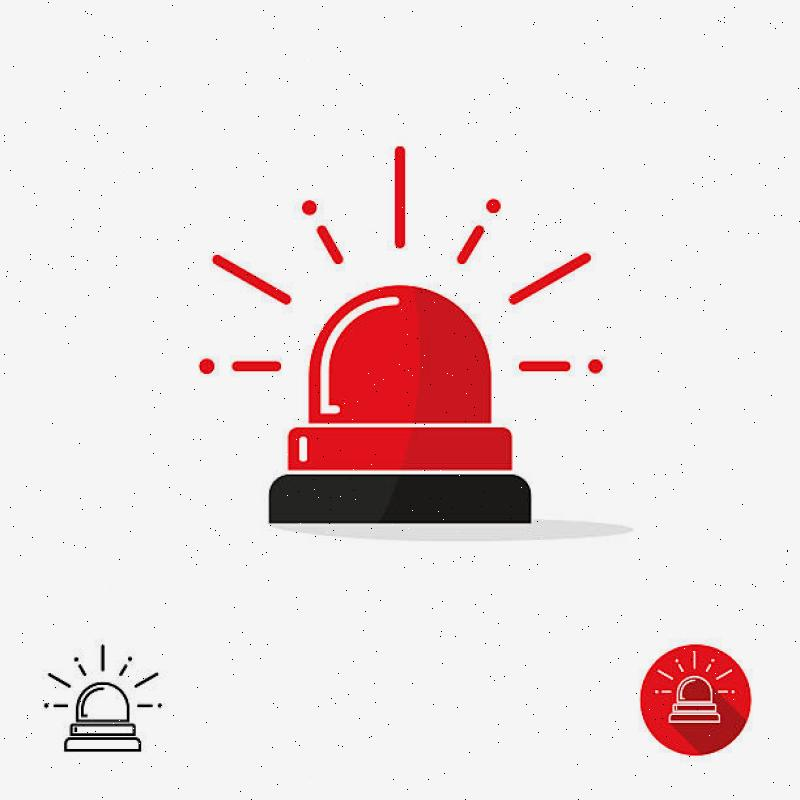AmbulanceSiren: (148, 112, 655, 610)
